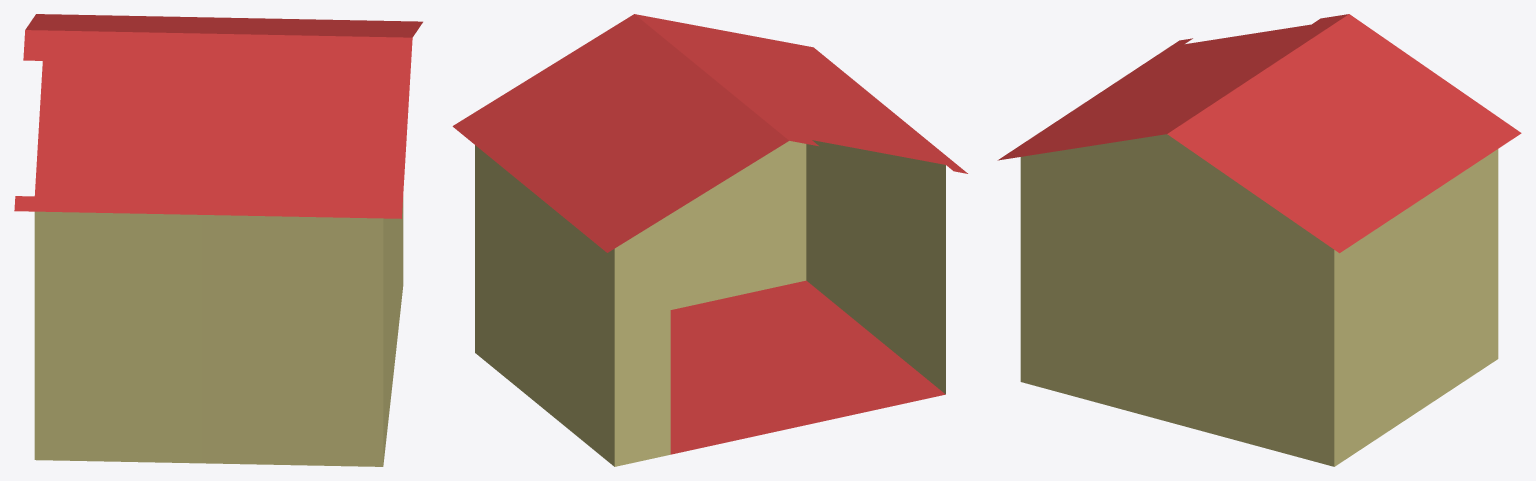
The picture shows the model from 3 angles, left to right: view 1: azimuth 30°, elevation 25°; view 2: azimuth 150°, elevation 25°; view 3: azimuth 270°, elevation 25°; orthographic projection. The views are drawn at different scales.
Bounding box in the file's own units: 14.86 × 15.47 × 9.63.
